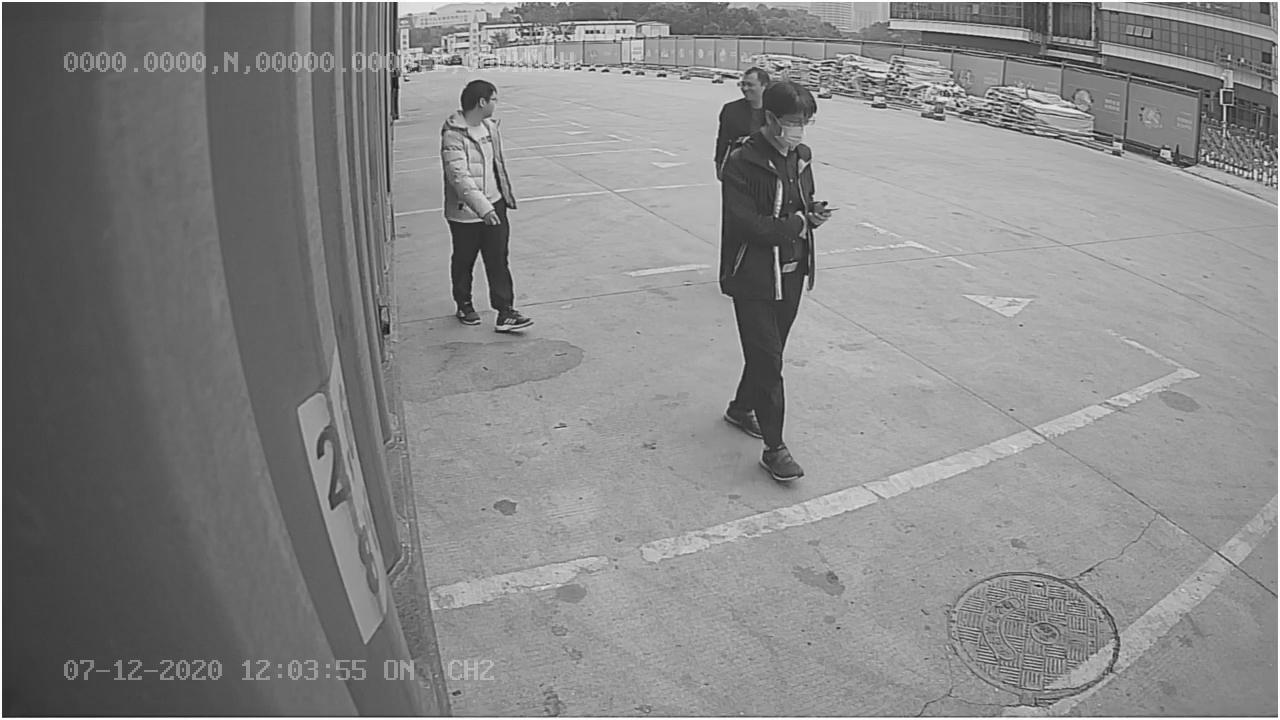person: (431, 77, 536, 333)
